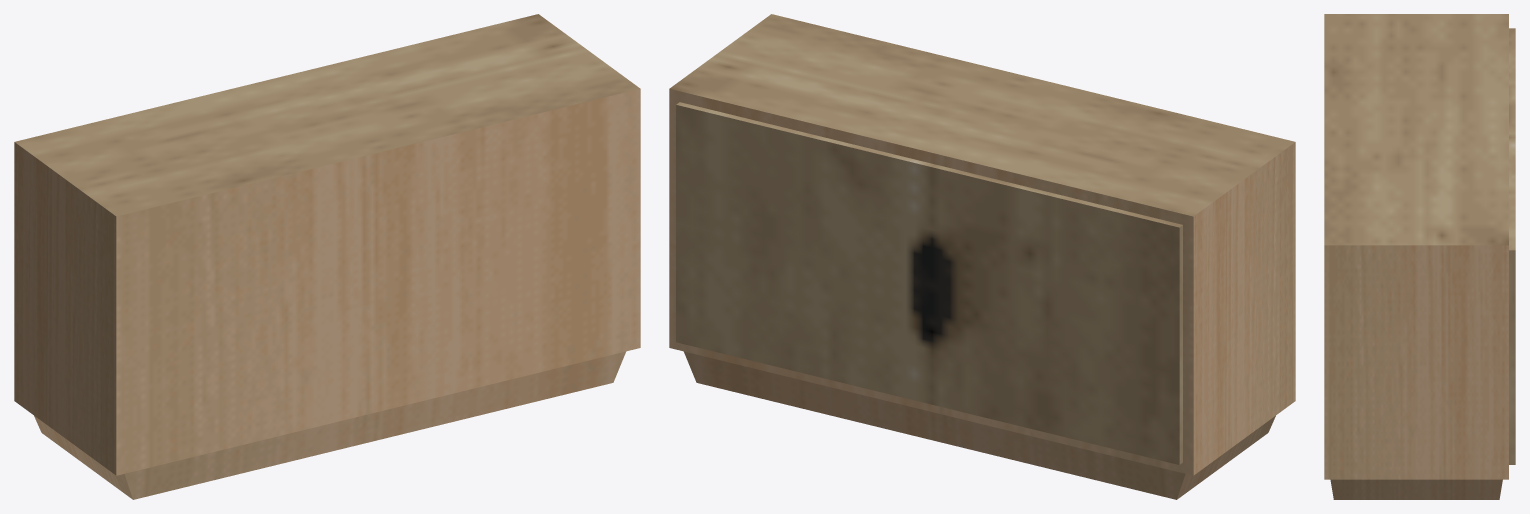
Rendered from Bedroom_SmallShelf.fbx.
3 views of the same model, side by side, from view 1: azimuth 30°, elevation 25°; view 2: azimuth 150°, elevation 25°; view 3: azimuth 270°, elevation 25° (orthographic). The views are drawn at different scales.
Visible parts, largest first — view 1: Cube.001; view 2: Cube.001; view 3: Cube.001.
Boxes of the visible parts, left/top/right/bottom form: Cube.001: left=14, top=14, right=640, bottom=499; Cube.001: left=669, top=14, right=1295, bottom=499; Cube.001: left=1324, top=14, right=1515, bottom=499.
Size of the model in its own units: 120 by 64 by 41.93.
